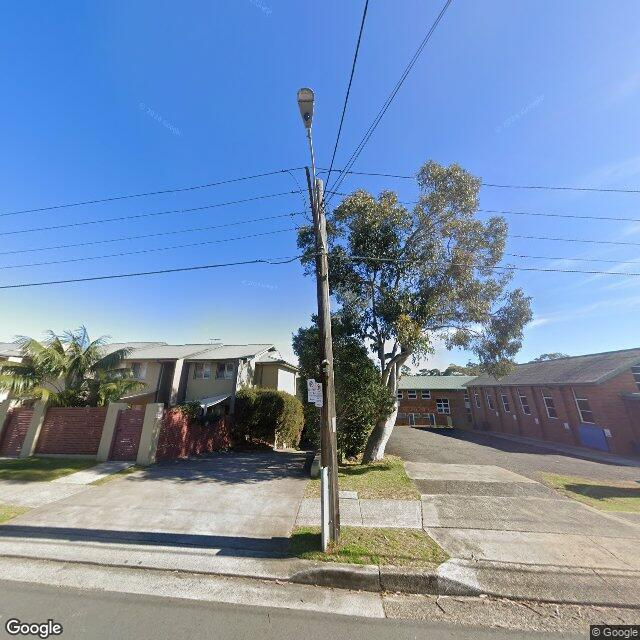crossarm: (303, 166, 320, 230)
streetlight: (297, 87, 322, 246)
timber-pole: (313, 178, 340, 553)
